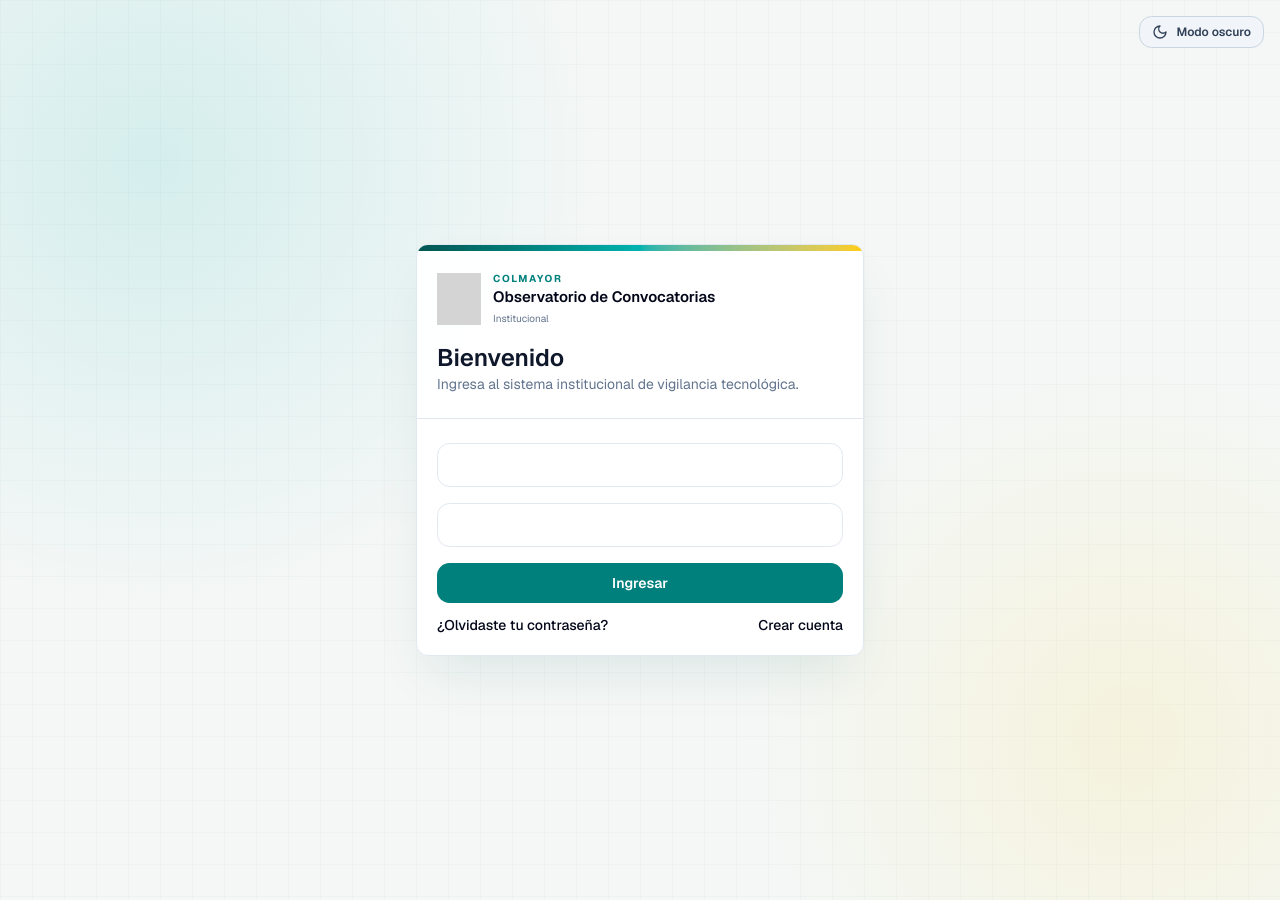
Login page — 401 path preserves form state and shows server detail (PR 3) › shows the server's body.detail when /auth/login returns 401 with a detail
Type "user@example.com" into the field with test id "login-email" at [640, 465], box [437,443,843,487]
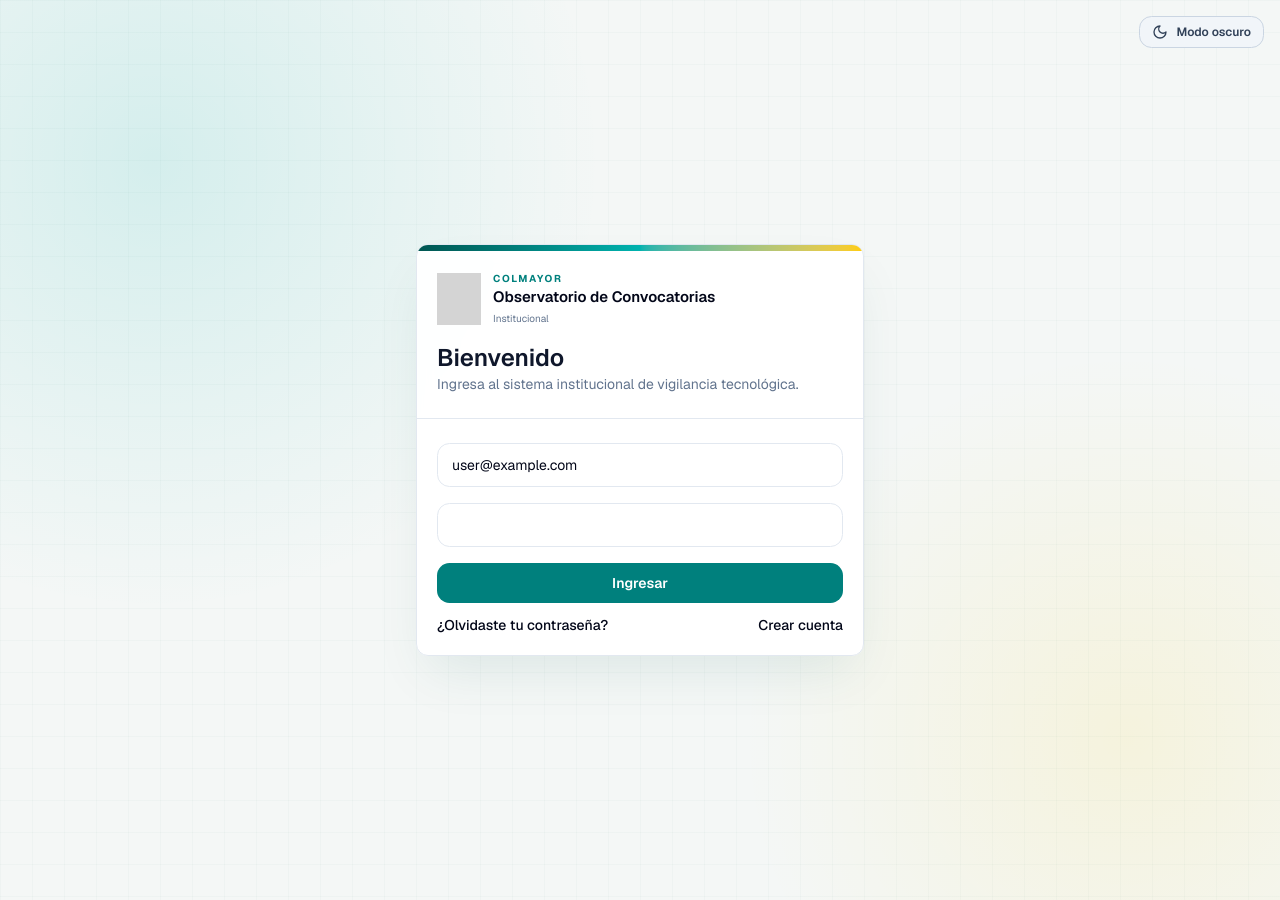
Type "wrong-password" into the password field with test id "login-password" at [640, 525], box [437,503,843,547]
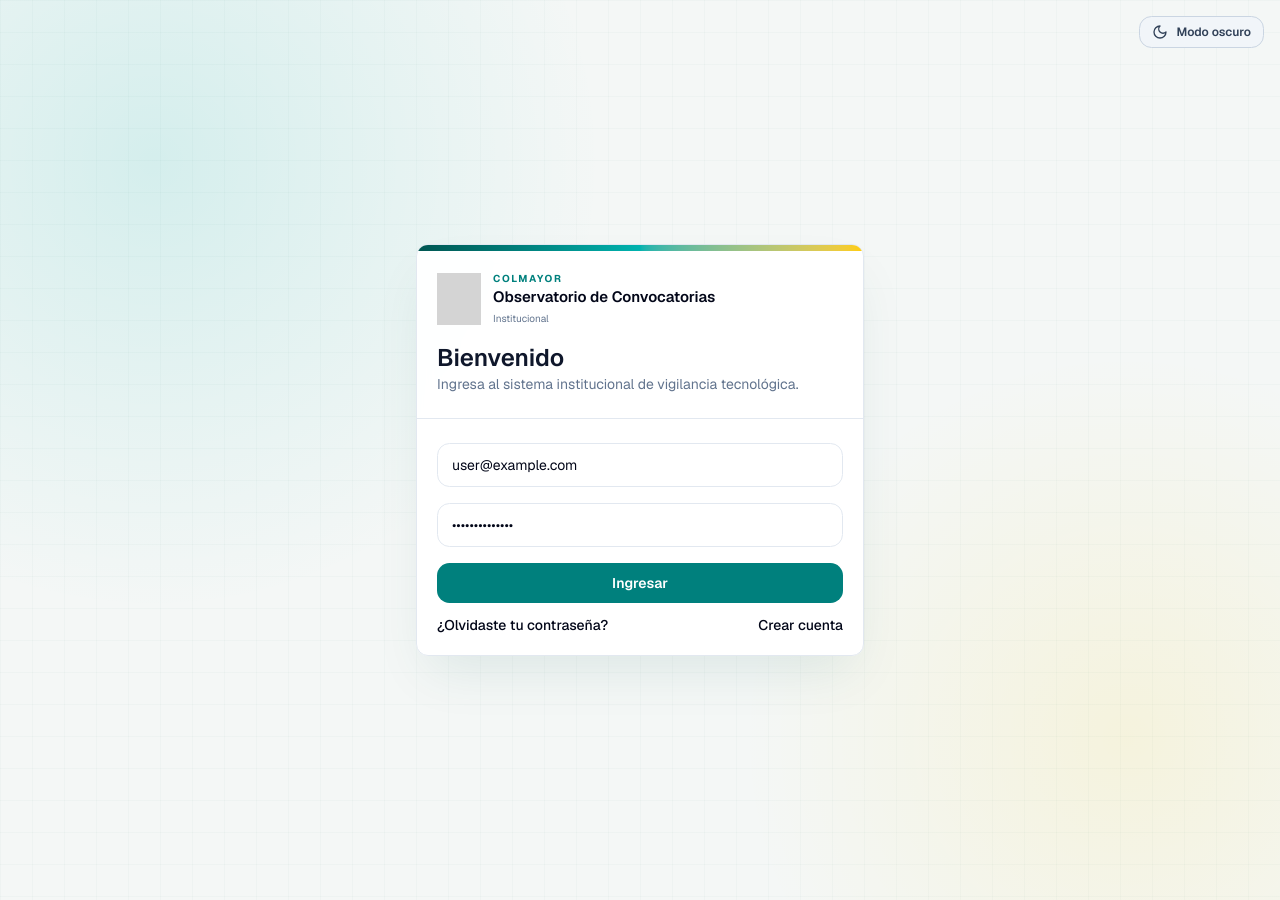
Click the button "Ingresar" at [640, 583], box [437,563,843,603]
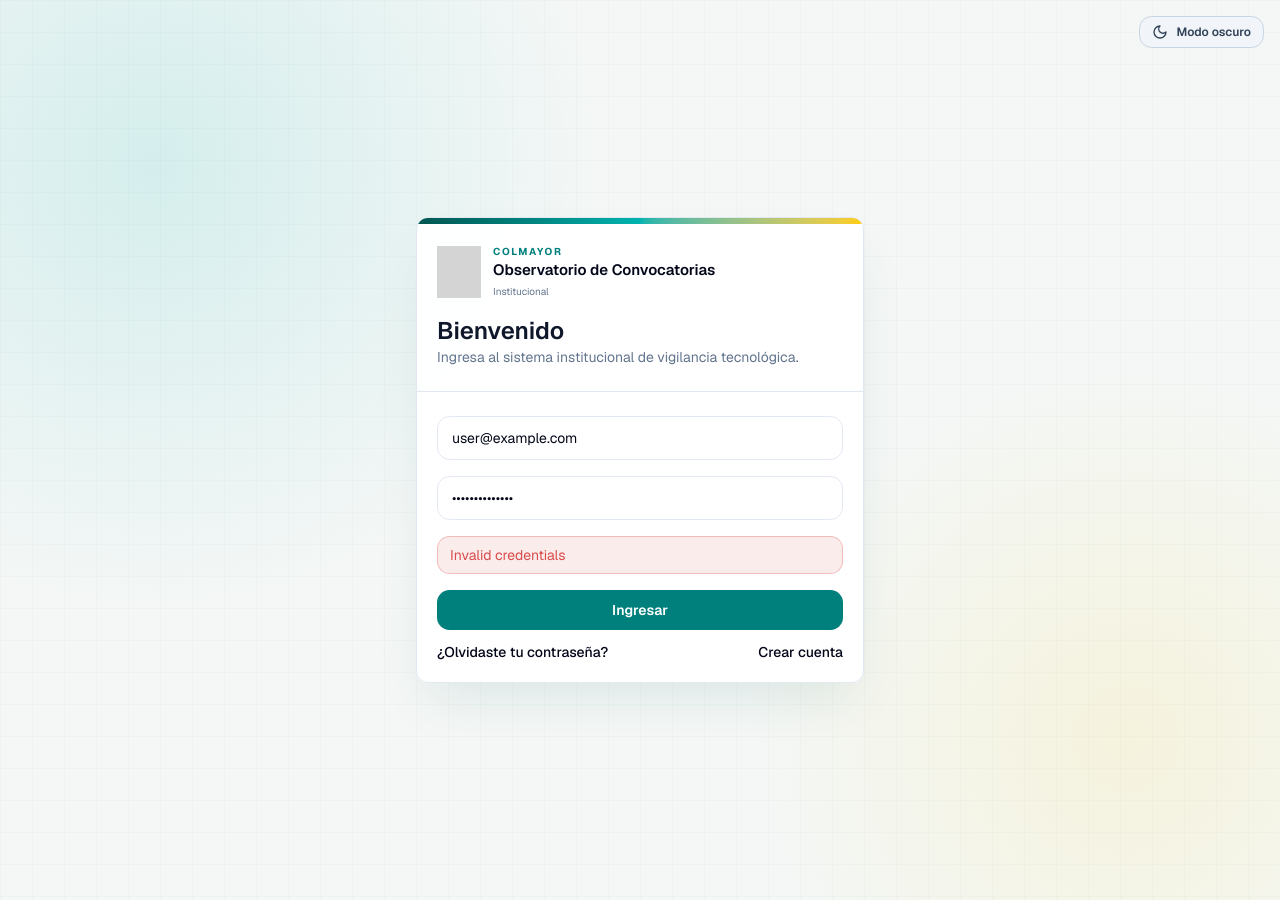
Result: the text "Invalid credentials" is shown at [437,536,843,574]
